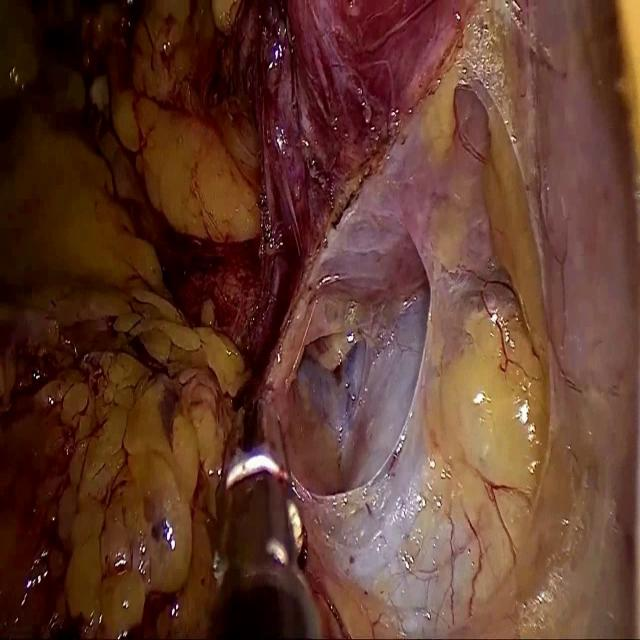surgical-tool: (216, 398, 320, 639)
